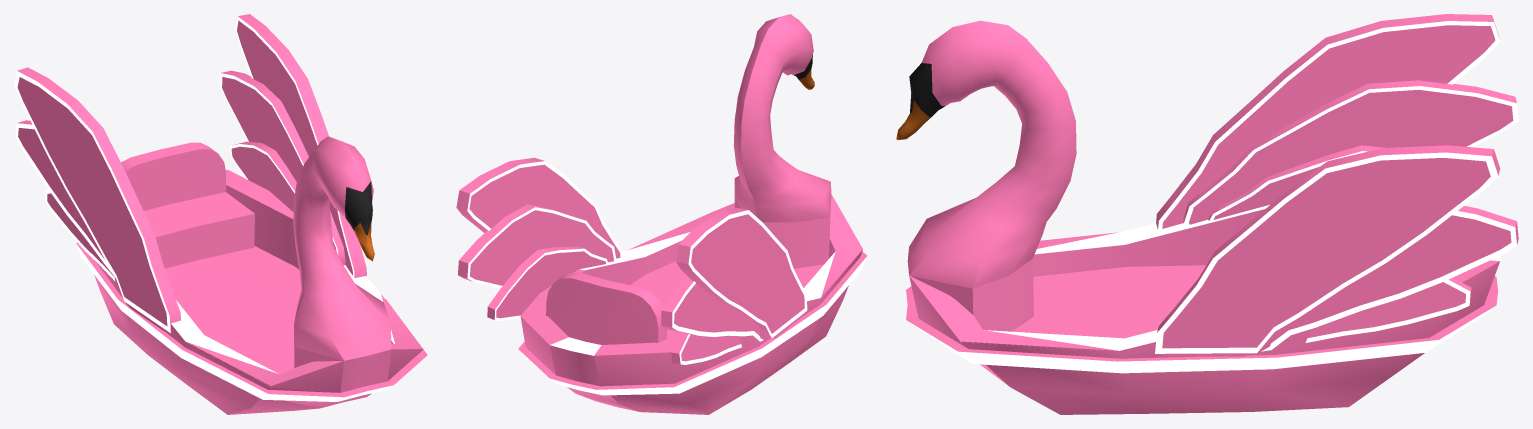
File: GeekGoddess-swan-boat.glb
The picture shows the model from 3 angles, left to right: view 1: azimuth 30°, elevation 25°; view 2: azimuth 150°, elevation 25°; view 3: azimuth 270°, elevation 25°; orthographic projection. The views are drawn at different scales.
Visible parts, largest first — view 1: swan-boat; view 2: swan-boat; view 3: swan-boat.
Part boxes in pixels (<box>): swan-boat: <box>14,14,427,414</box>; swan-boat: <box>456,14,867,414</box>; swan-boat: <box>896,14,1518,414</box>.
Size of what is drawn, in the model's own units: 3.29 by 3.77 by 6.12.
